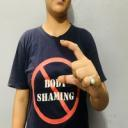hand: (56, 39, 109, 111)
